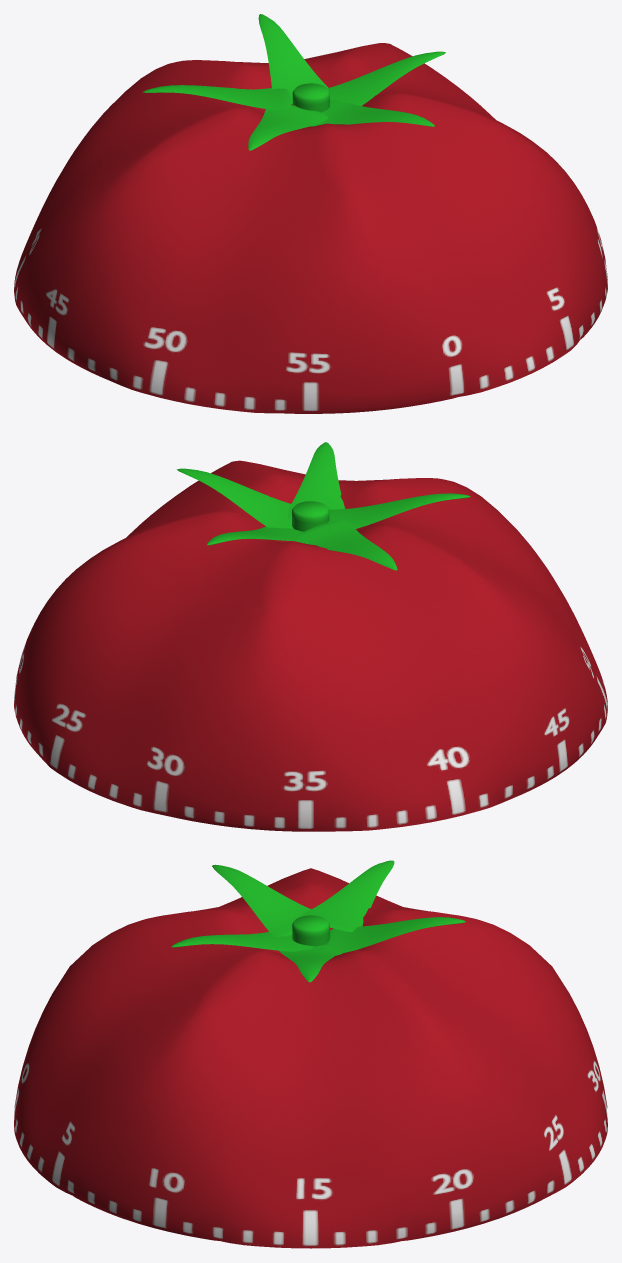
File: pomodaro_top.gltf
3 renders of one model, top to bottom at view 1: azimuth 30°, elevation 25°; view 2: azimuth 150°, elevation 25°; view 3: azimuth 270°, elevation 25°, orthographic.
Parts seen in each view (by area): view 1: Top, Top Leaf; view 2: Top, Top Leaf; view 3: Top, Top Leaf.
Boxes of the visible parts, x1,y1,x2,y2 form: Top: (14,43,607,413); Top Leaf: (143,14,445,150); Top: (14,460,607,831); Top Leaf: (177,442,470,570); Top: (14,868,607,1248); Top Leaf: (171,860,465,982).
Size of the model in its own units: 1.95 by 0.7745 by 1.95.
2 materials, 1 textured.
